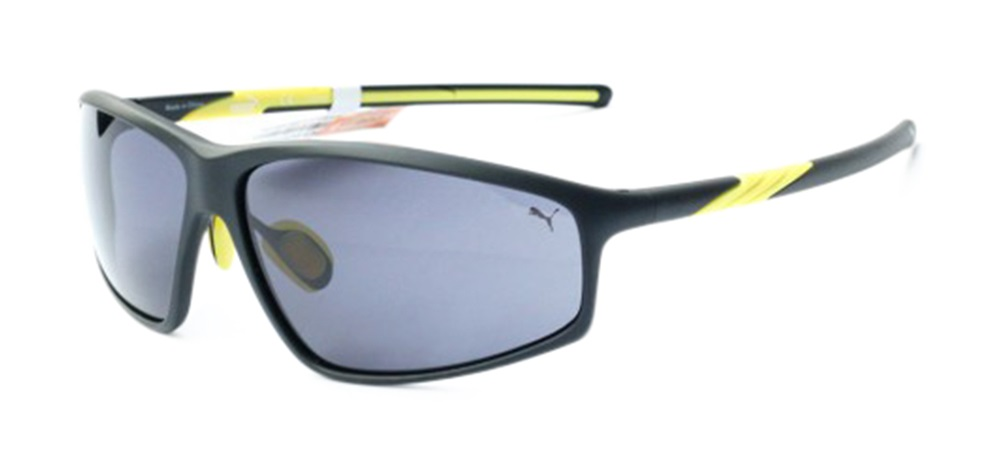Puma: (517, 191, 567, 236)
